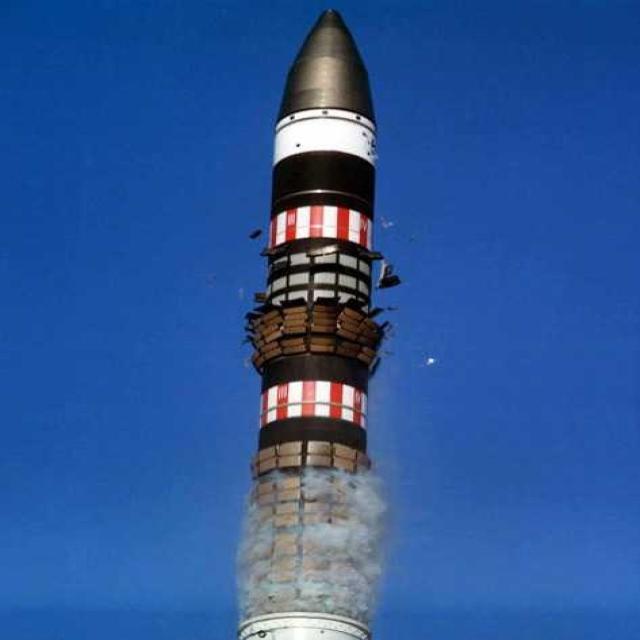missile: (248, 10, 387, 621)
